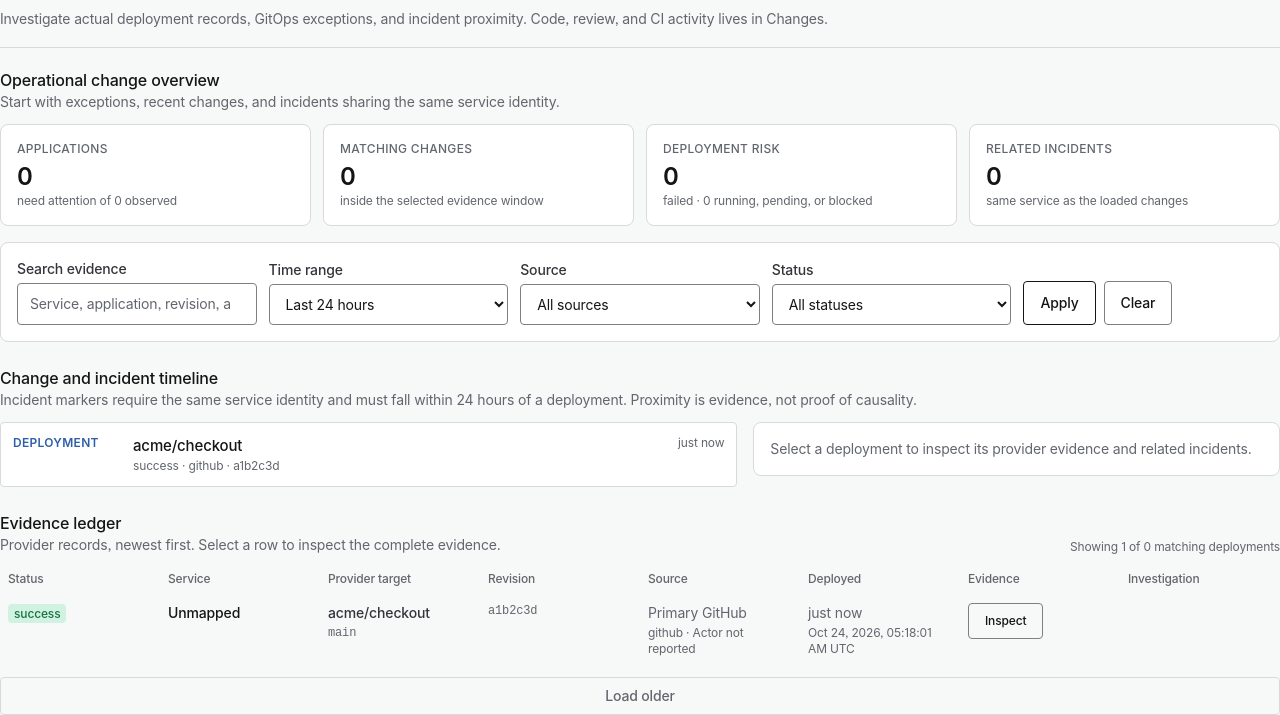
Scenario: DeploymentsPanel pagination live region › a settled page announces the row delta of the page just appended, not a running total
(page scrolled)
Step 1. Click the button "Load older" → (640, 696), box [0,676,1279,714]
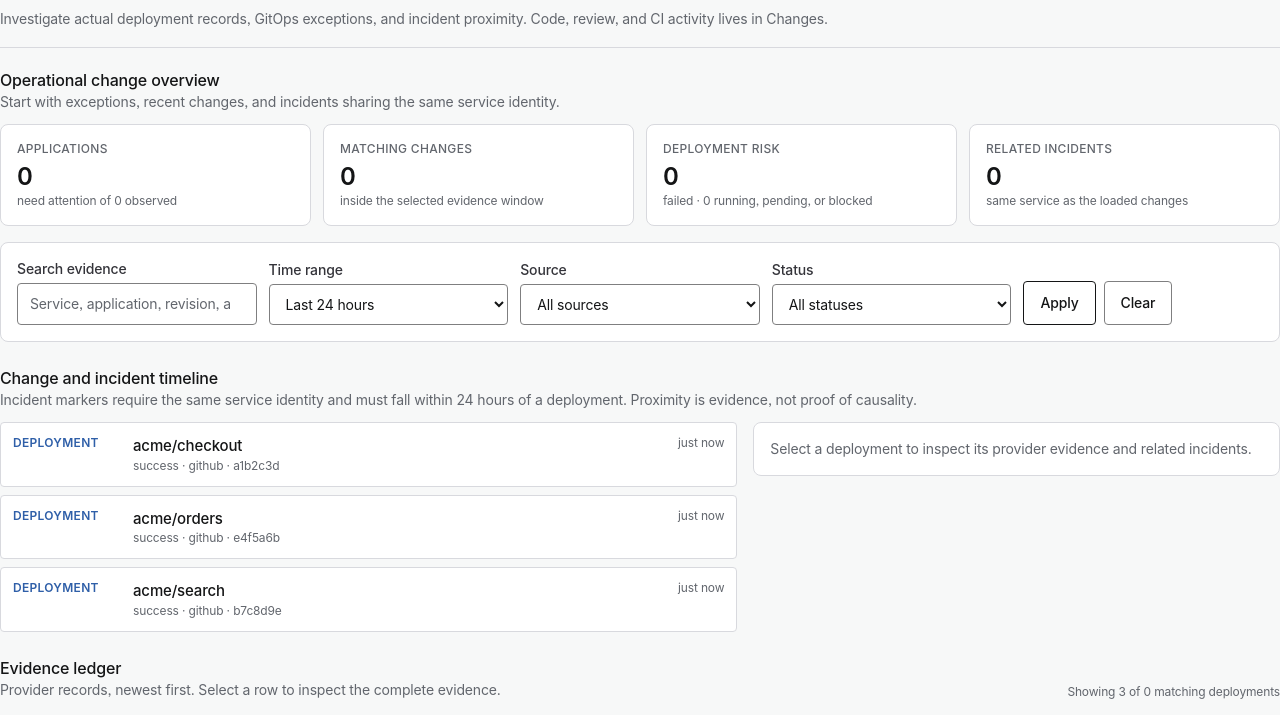
Expected: the text "acme/checkout" is shown, [133,436,242,455]
Result: the text "acme/orders" is shown at [133,508,223,528]
Result: the text "acme/search" is shown at [133,581,225,600]
